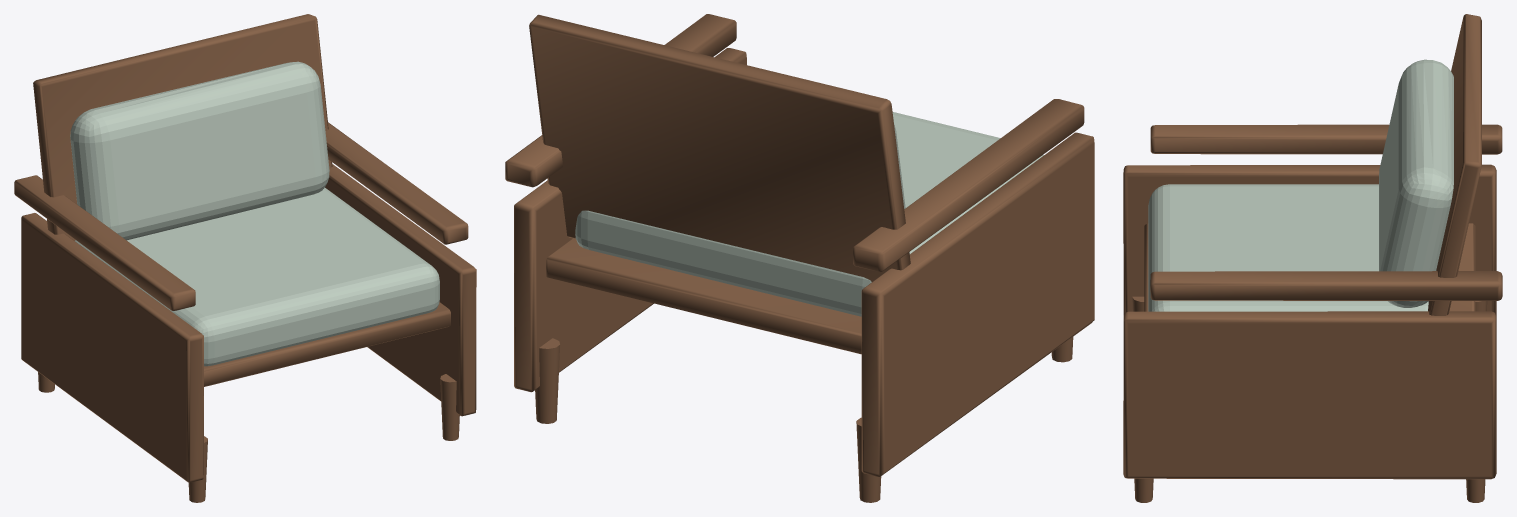
The model's file is chair-1-0.lod.glb.
3 views of the same model, side by side, from view 1: azimuth 30°, elevation 25°; view 2: azimuth 150°, elevation 25°; view 3: azimuth 270°, elevation 25° (orthographic). The views are drawn at different scales.
Visible parts, largest first — view 1: part, tailored-cushion; view 2: part, tailored-cushion; view 3: part, tailored-cushion.
Part boxes in pixels (x1=…): part: x1=14, y1=14, x2=476, y2=502; tailored-cushion: x1=70, y1=61, x2=439, y2=366; part: x1=505, y1=14, x2=1094, y2=502; tailored-cushion: x1=575, y1=112, x2=1043, y2=316; part: x1=1123, y1=14, x2=1502, y2=502; tailored-cushion: x1=1148, y1=59, x2=1453, y2=311.
Bounding box in the file's own units: 1 × 1 × 1.
